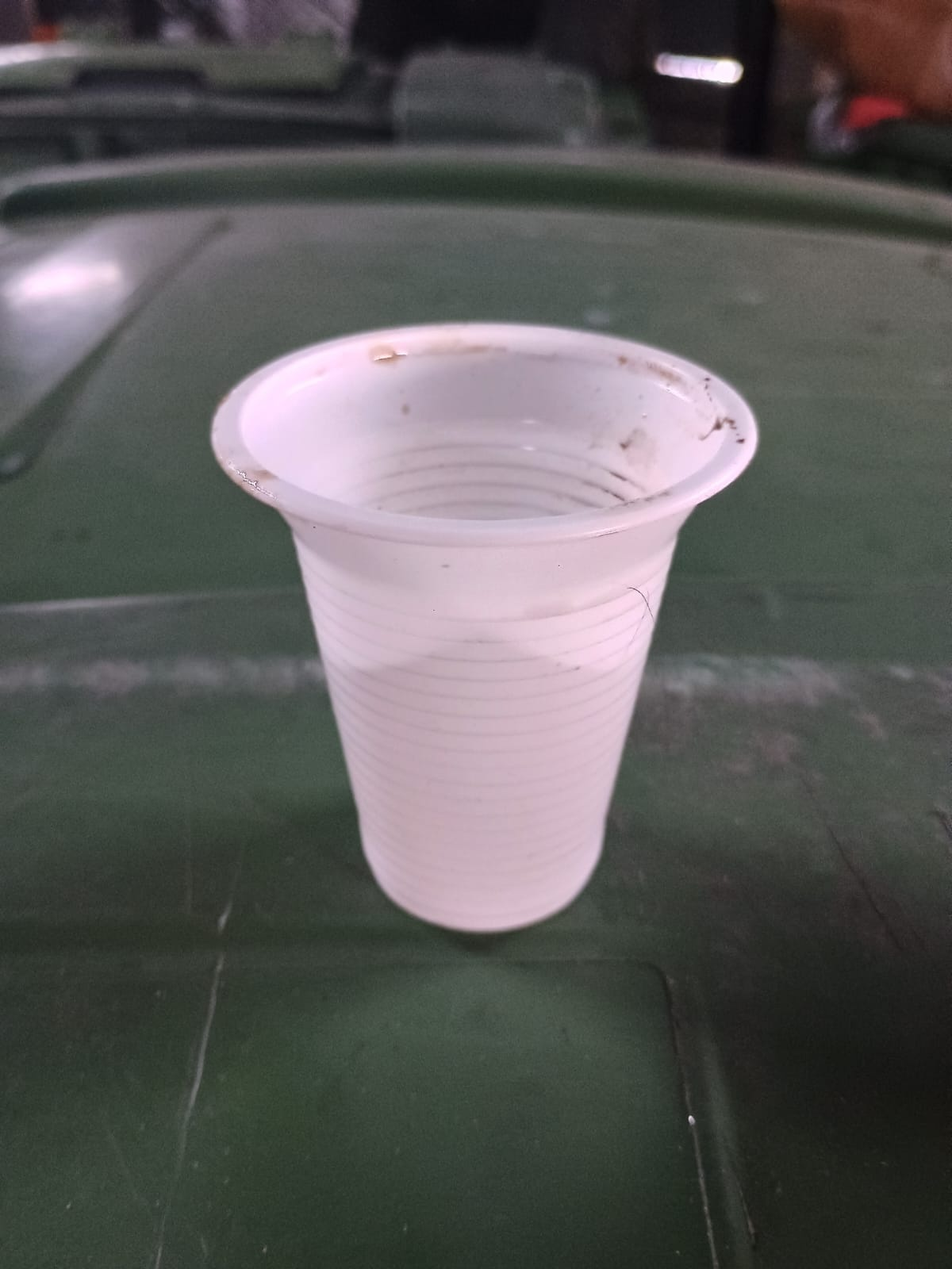Plastico: (211, 320, 758, 931)
